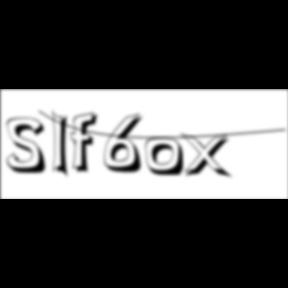6: (104, 112, 150, 176)
S: (7, 117, 53, 176)
f: (70, 111, 104, 175)
l: (52, 108, 76, 182)
o: (145, 137, 187, 179)
x: (180, 132, 235, 181)
